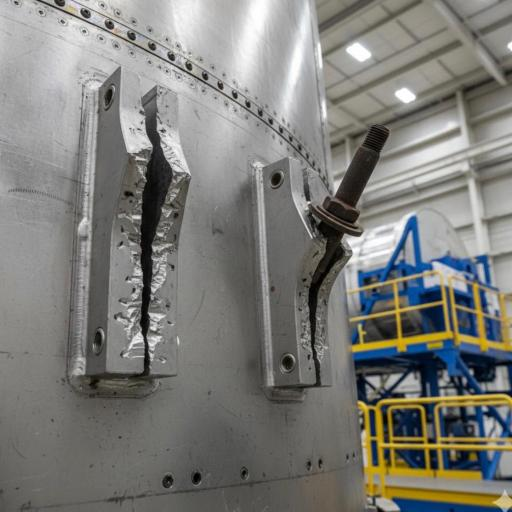fastening deformation: (92, 65, 198, 417), (279, 223, 364, 394)
